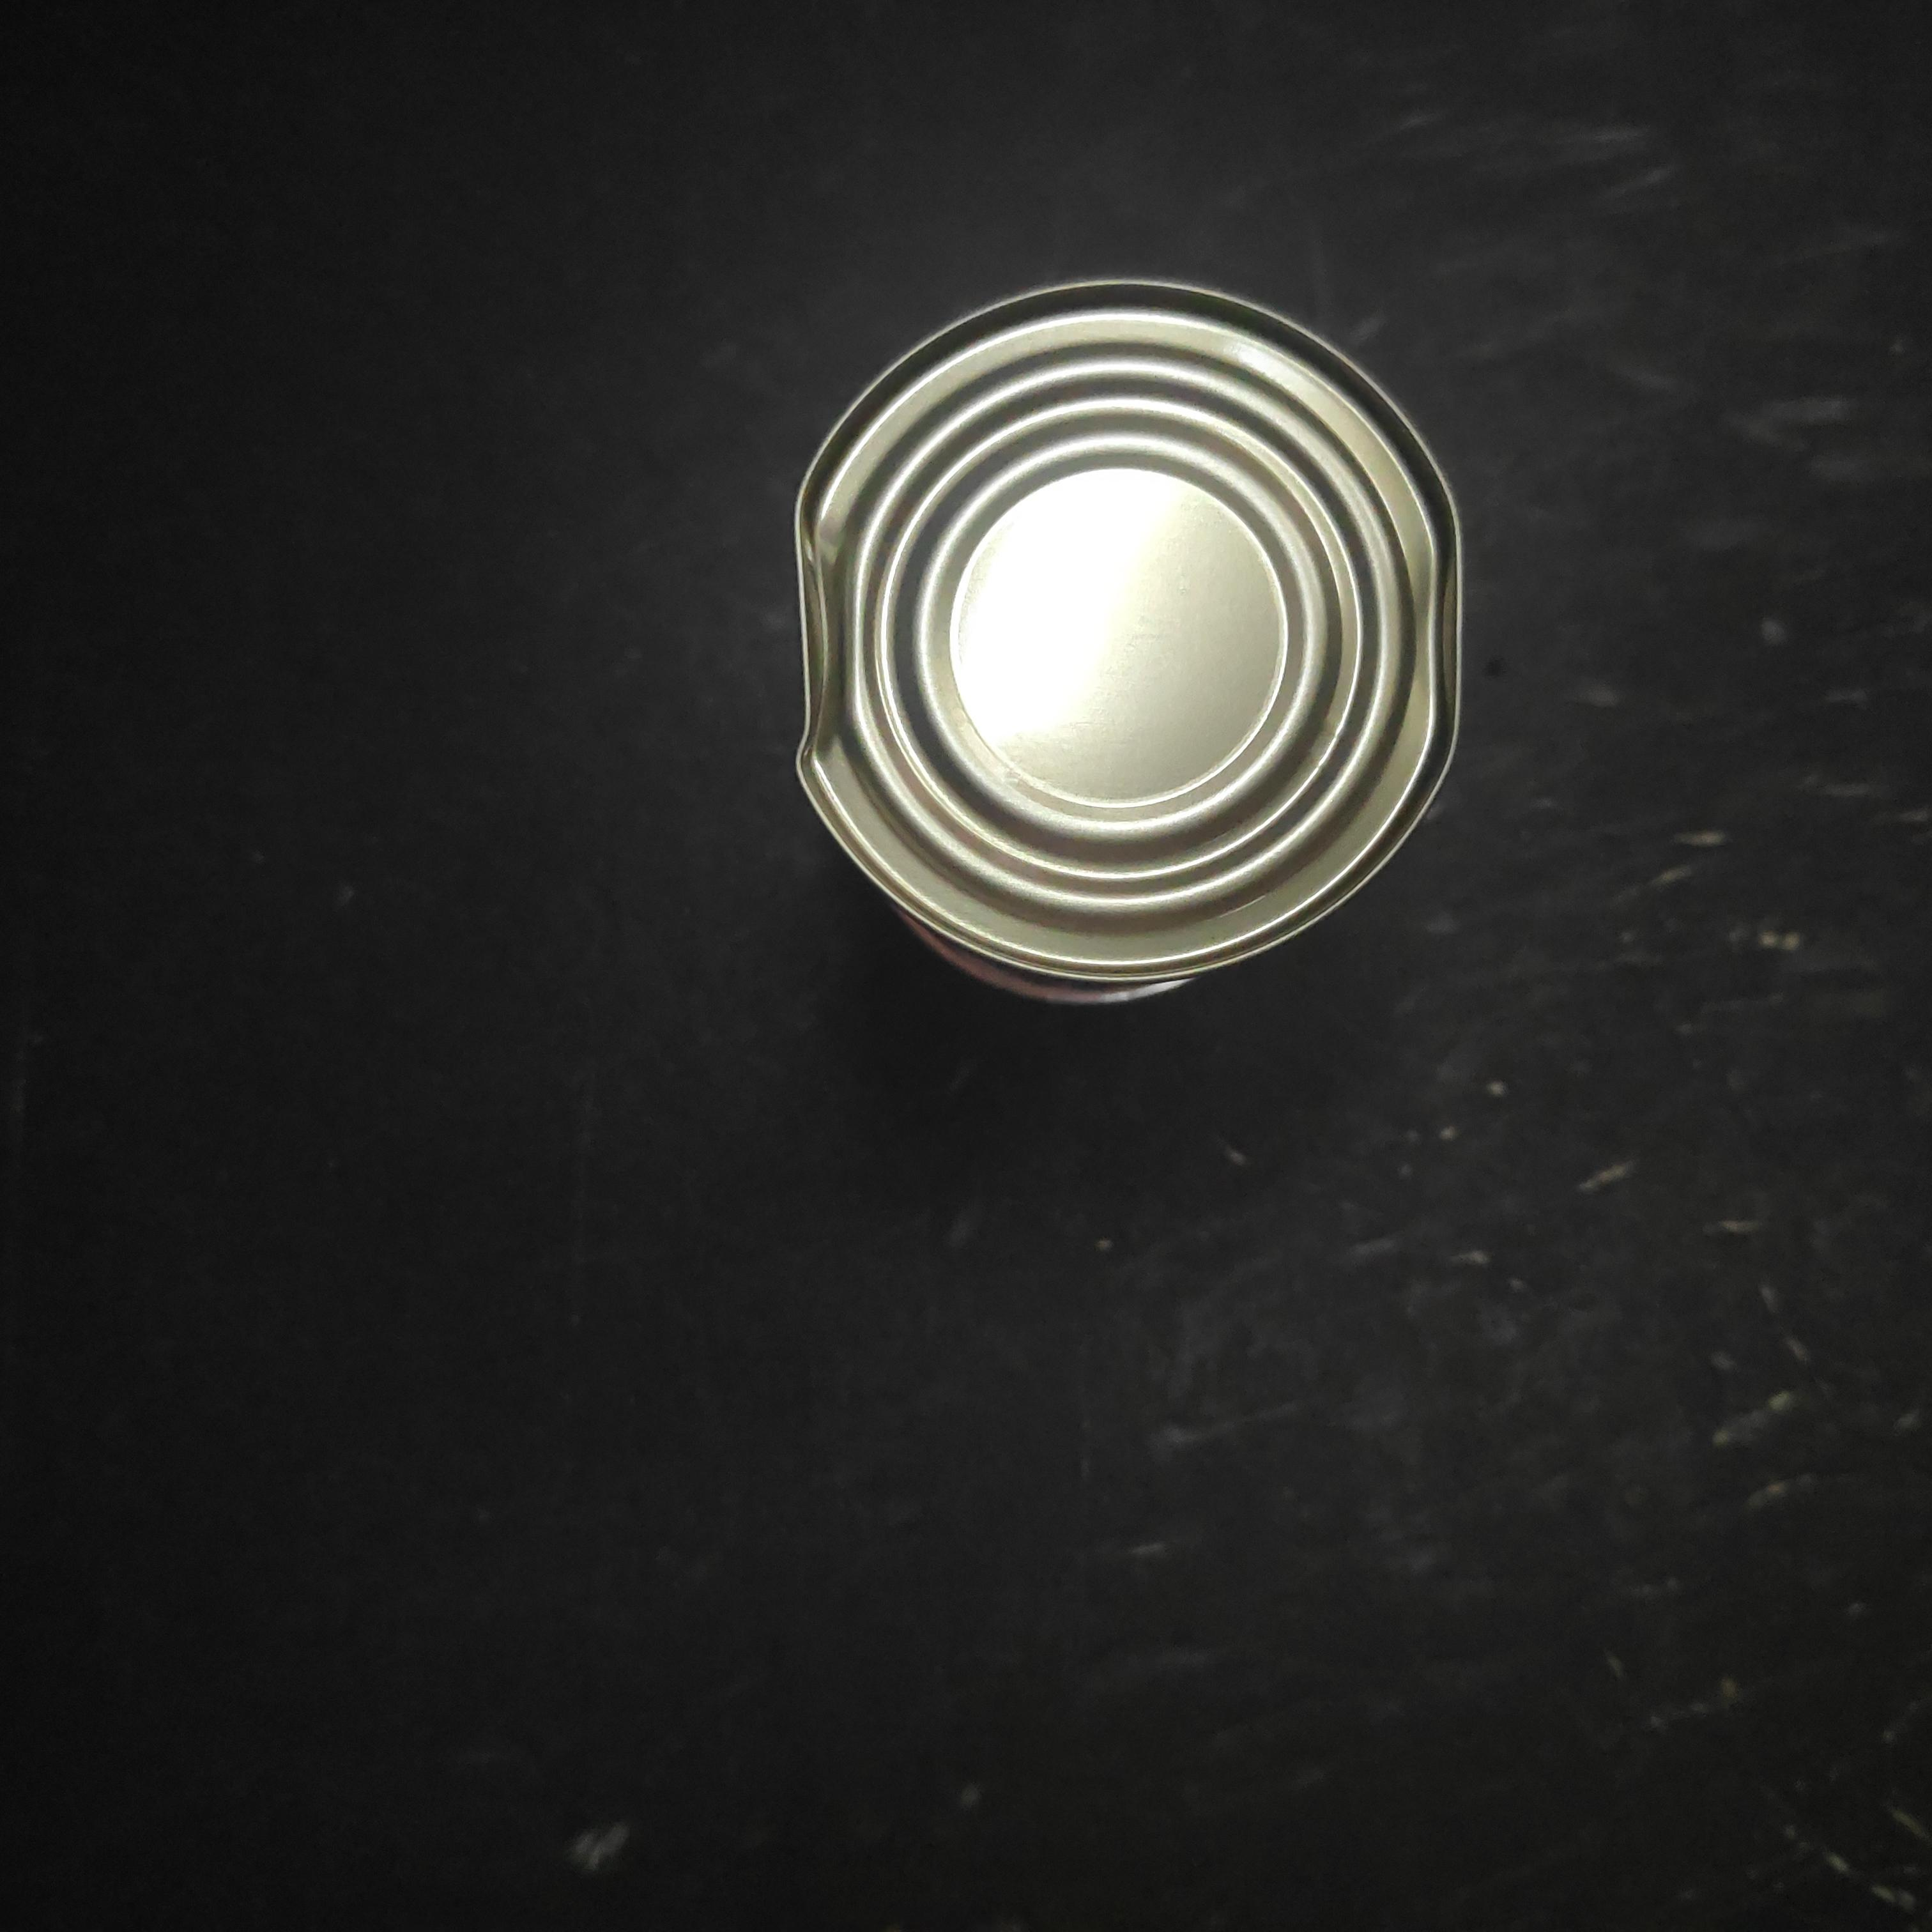Minor Defect: (446, 931, 1150, 1681)
